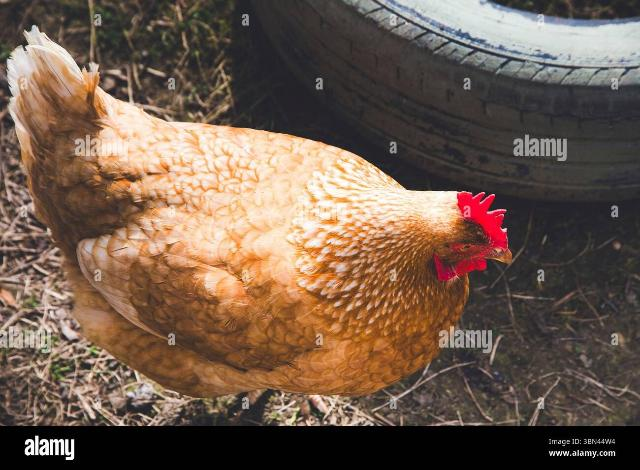Chicken: (7, 26, 513, 399)
